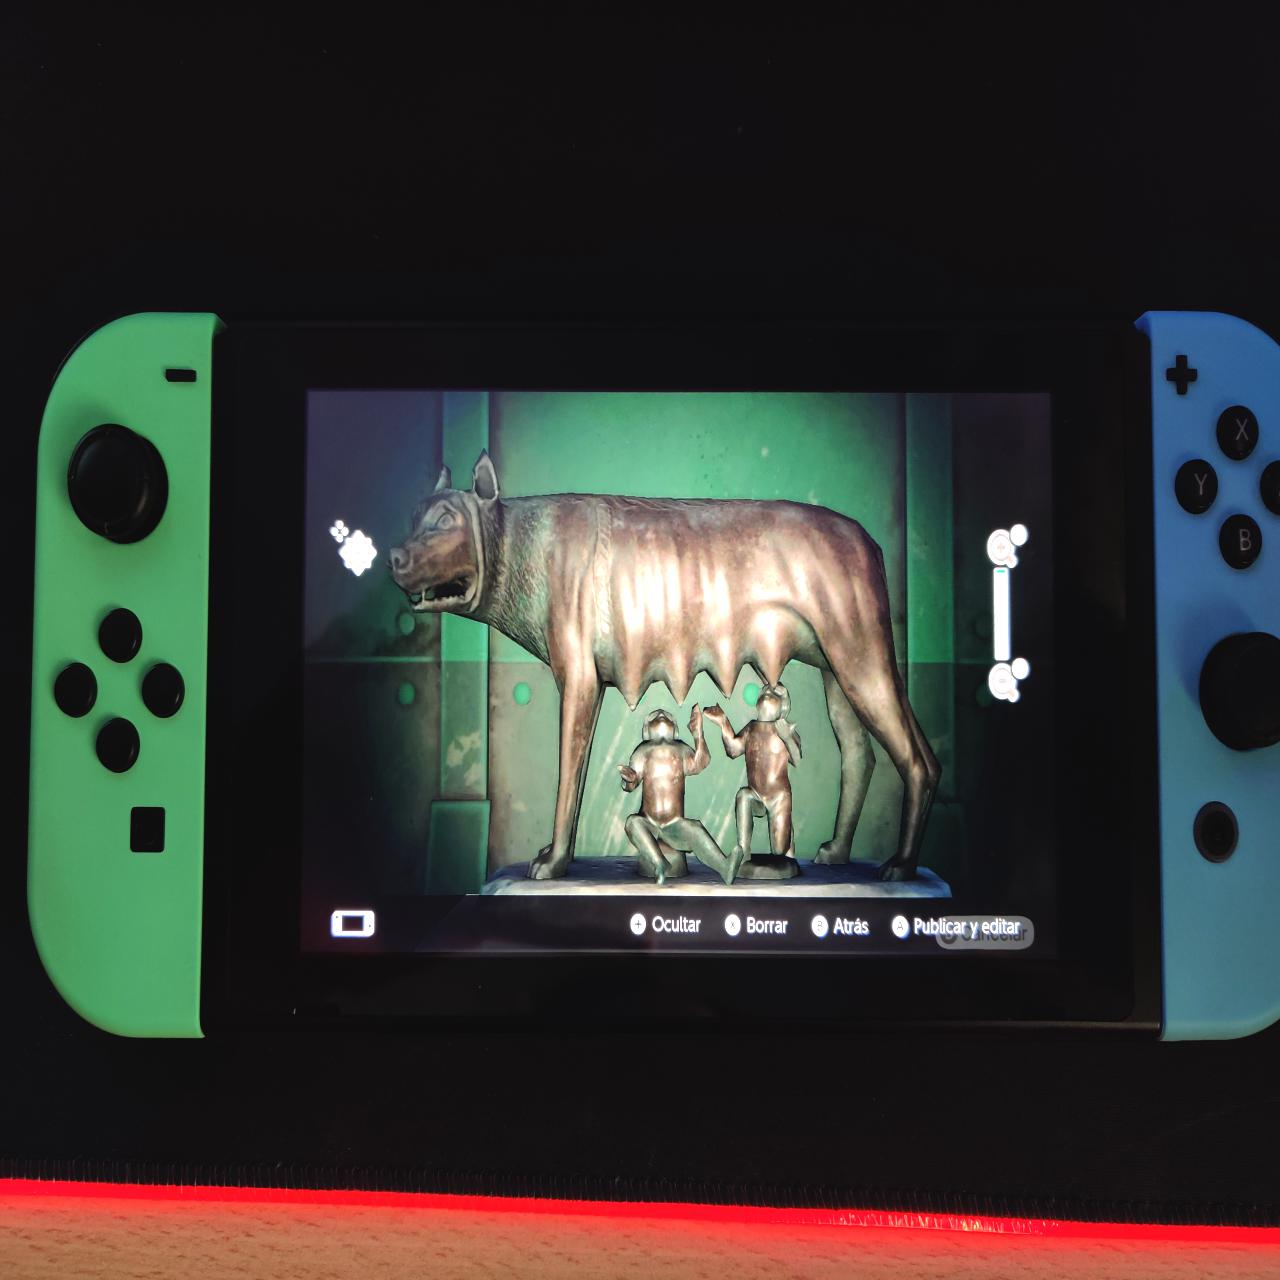Capitolini: (387, 441, 947, 894)
